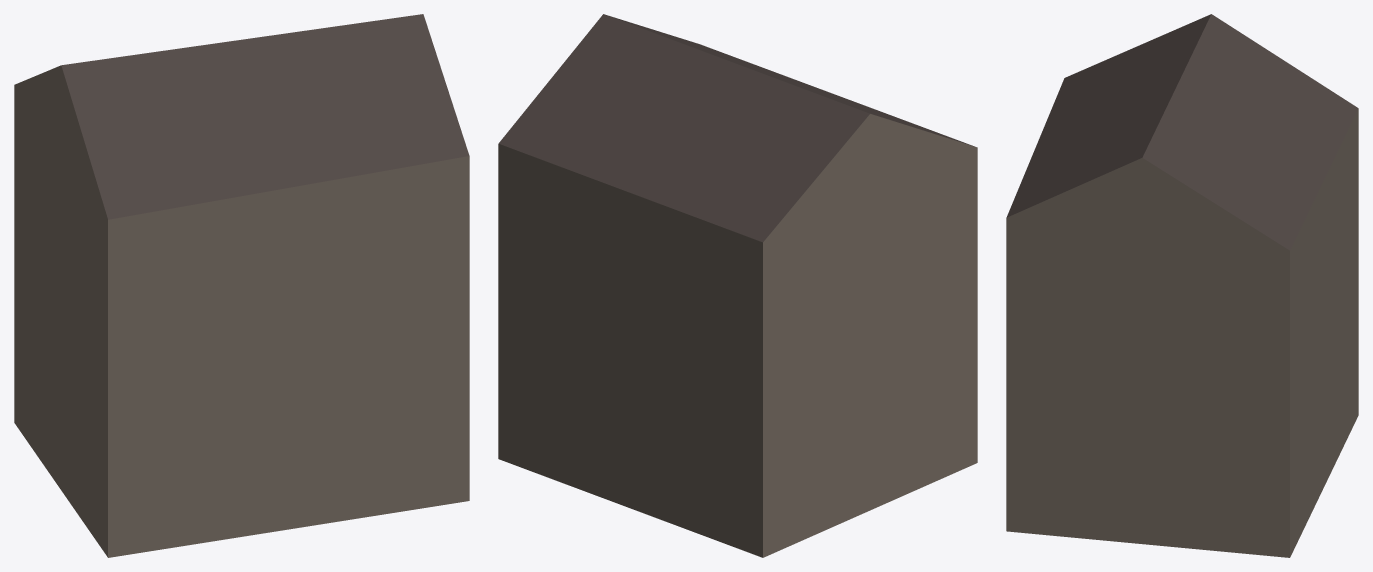
The picture shows the model from 3 angles, left to right: view 1: azimuth 30°, elevation 25°; view 2: azimuth 150°, elevation 25°; view 3: azimuth 270°, elevation 25°; orthographic projection. The views are drawn at different scales.
Parts seen in each view (by area): view 1: HP-w505643552; view 2: HP-w505643552; view 3: HP-w505643552.
Part boxes in pixels (x1=…): HP-w505643552: x1=14, y1=14, x2=469, y2=557; HP-w505643552: x1=498, y1=14, x2=977, y2=557; HP-w505643552: x1=1006, y1=14, x2=1358, y2=557.
Size of the model in its own units: 10.84 by 11.32 by 9.35.
